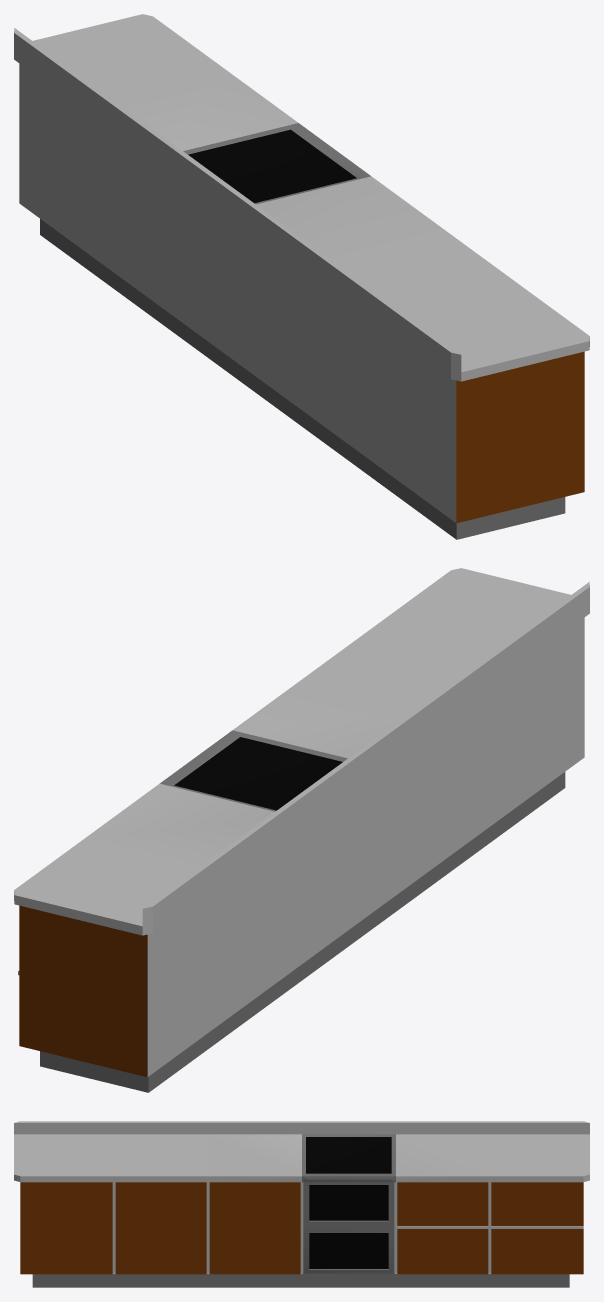
File: KitchenWallTable.fbx
3 views of the same model, one above another, from view 1: azimuth 30°, elevation 25°; view 2: azimuth 150°, elevation 25°; view 3: azimuth 270°, elevation 25° (orthographic). The views are drawn at different scales.
Visible parts, largest first — view 1: KitchenWallIsland; view 2: KitchenWallIsland; view 3: KitchenWallIsland.
Part boxes in pixels (<box>): KitchenWallIsland: <box>14,14,589,539</box>; KitchenWallIsland: <box>14,568,589,1092</box>; KitchenWallIsland: <box>14,1121,589,1287</box>.
Size of the model in its own units: 164 by 222 by 907.
